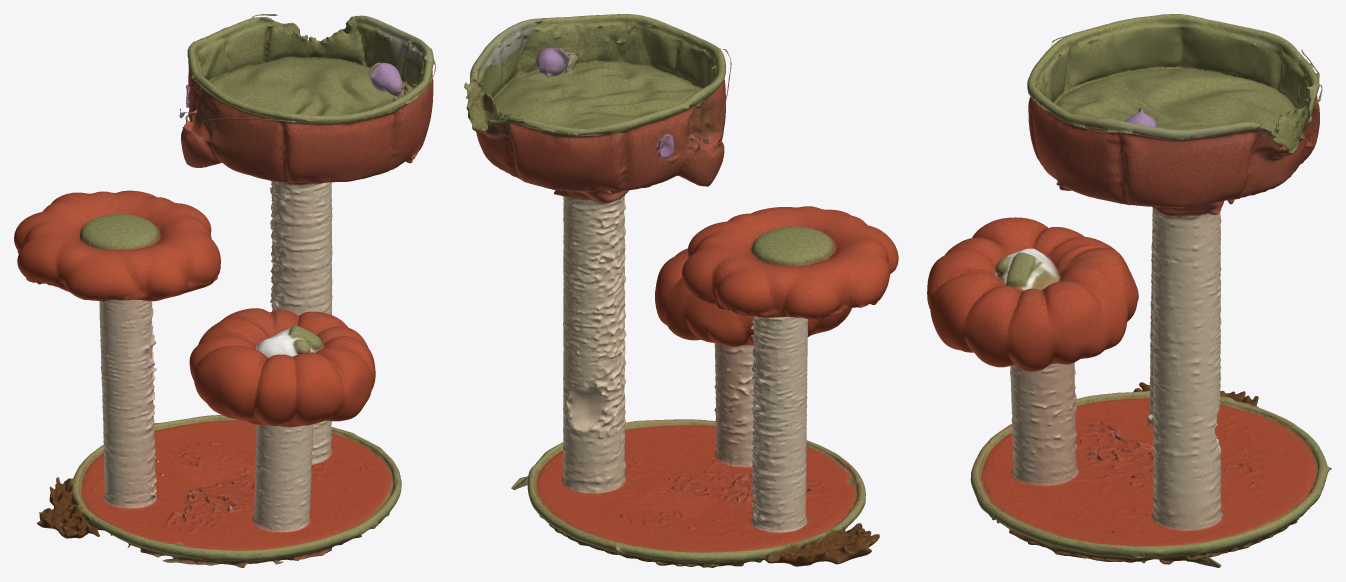
File: Cat-tower-1.glb
The picture shows the model from 3 angles, left to right: view 1: azimuth 30°, elevation 25°; view 2: azimuth 150°, elevation 25°; view 3: azimuth 270°, elevation 25°; orthographic projection. The views are drawn at different scales.
Size of the model in its own units: 1.78 by 1.83 by 1.43.
Materials: 1 (1 with a texture image).
